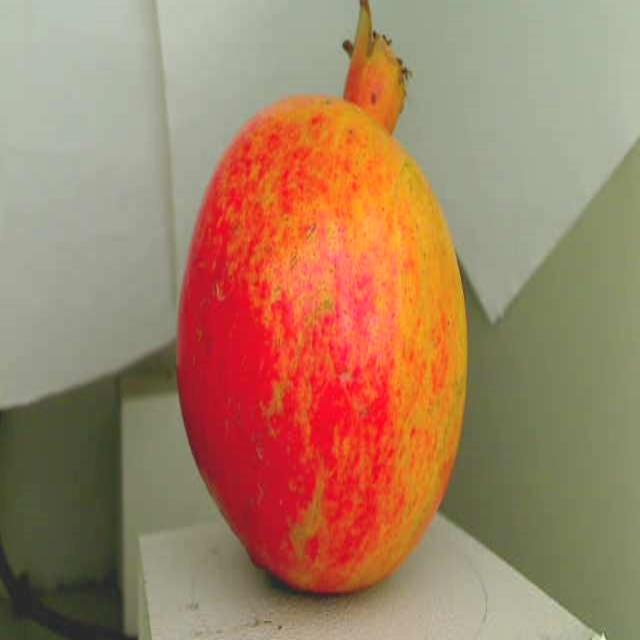pomegranate: (162, 0, 474, 611)
